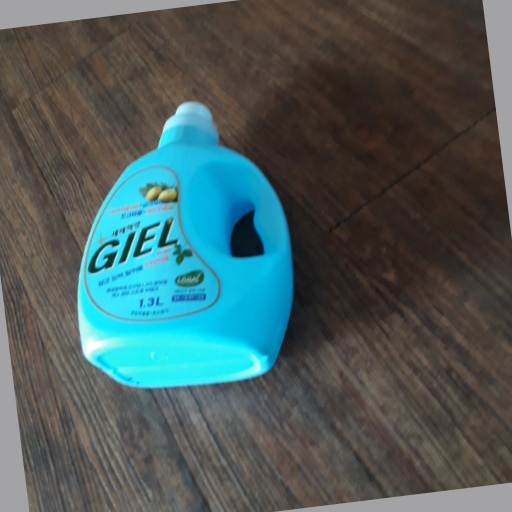Plastic_1: (79, 98, 292, 384)
